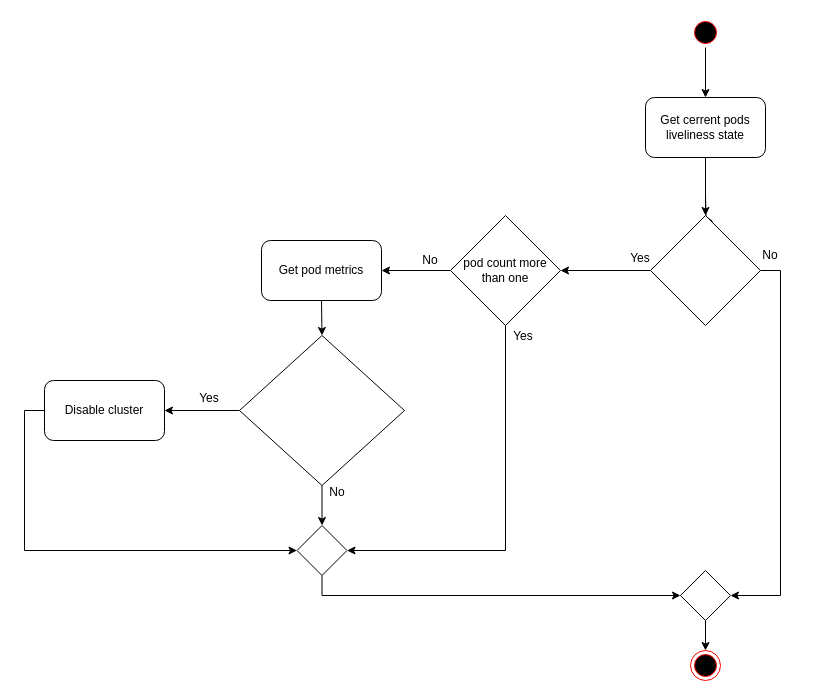
This 818x698 diagram has some shape labels left out. Each missing label, with the box of its shape:
Any pods awake: (650, 214, 760, 326)
Metric of time from last request more than treshold value?: (238, 334, 404, 486)
